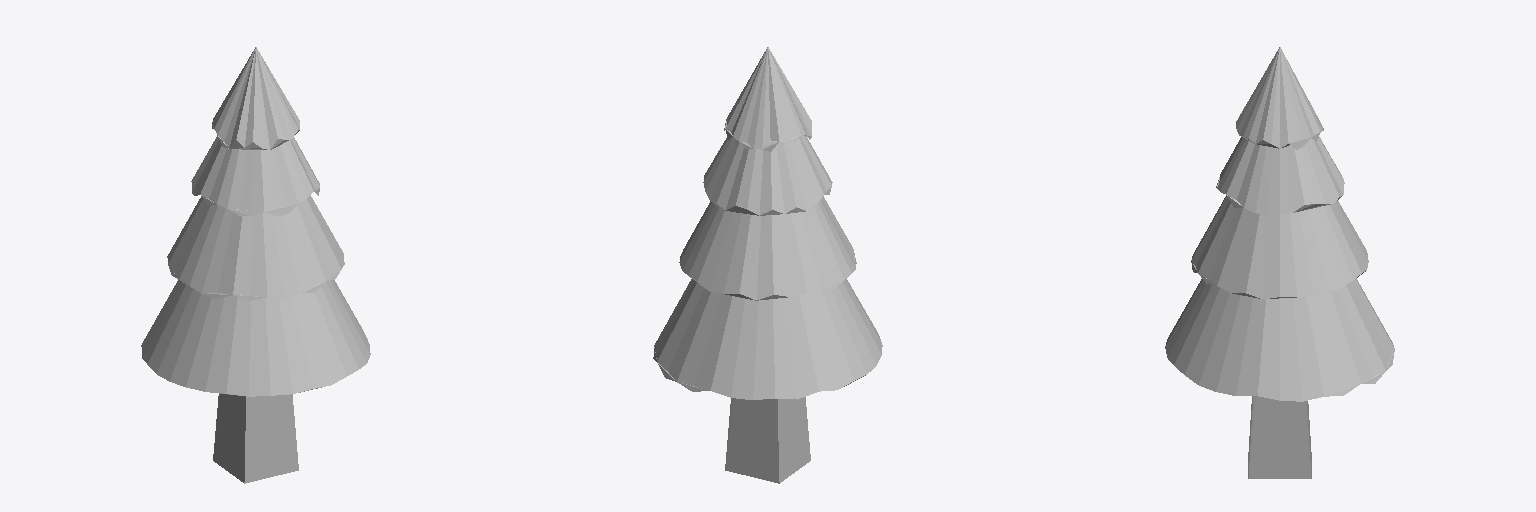
3 renders of one model, left to right at view 1: azimuth 30°, elevation 25°; view 2: azimuth 150°, elevation 25°; view 3: azimuth 270°, elevation 25°, orthographic.
Parts seen in each view (by area): view 1: pine2_LOD0; view 2: pine2_LOD0; view 3: pine2_LOD0.
Boxes of the visible parts, box(x1,y1,x2,y2) form: pine2_LOD0: box(141, 47, 370, 483); pine2_LOD0: box(653, 47, 882, 483); pine2_LOD0: box(1165, 47, 1394, 478).
Size of the model in its own units: 5.19 by 10.45 by 5.19.